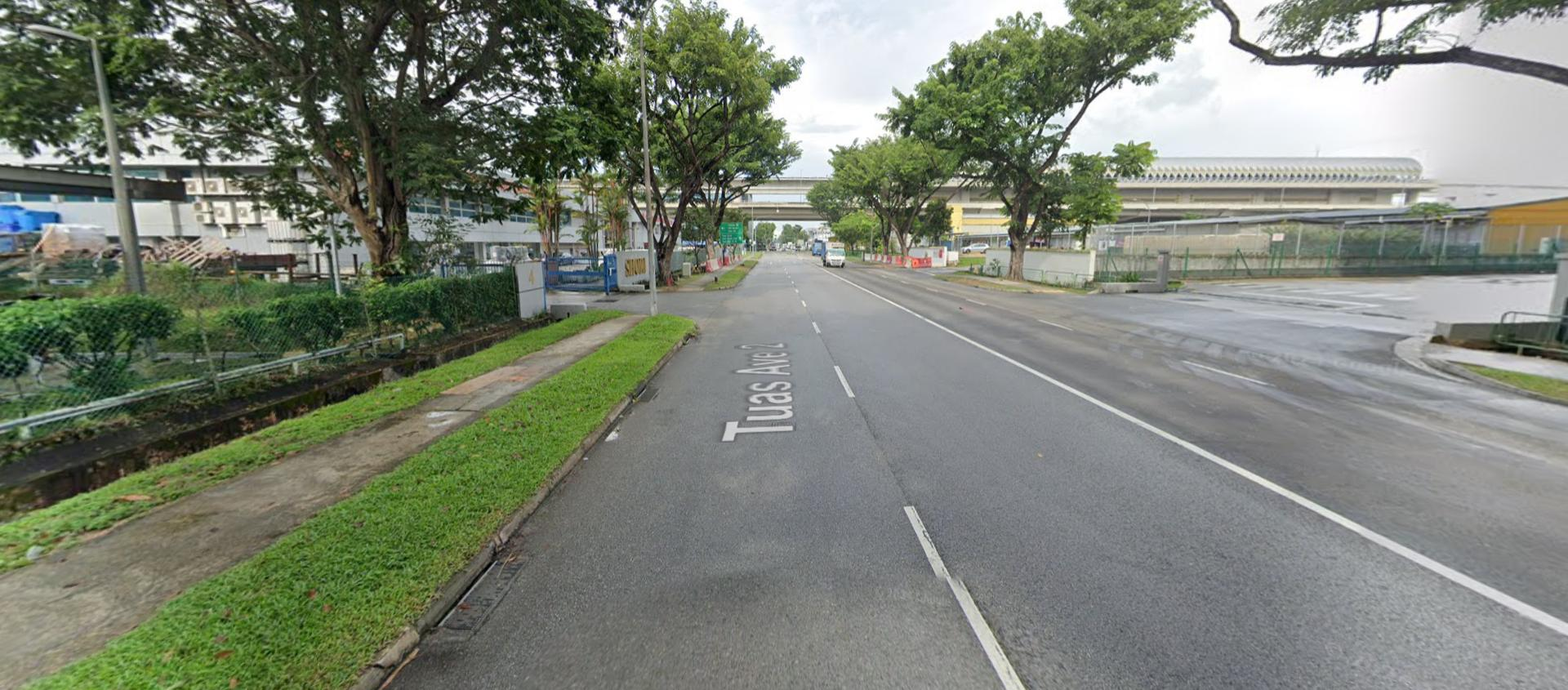normal: (445, 560, 524, 629)
